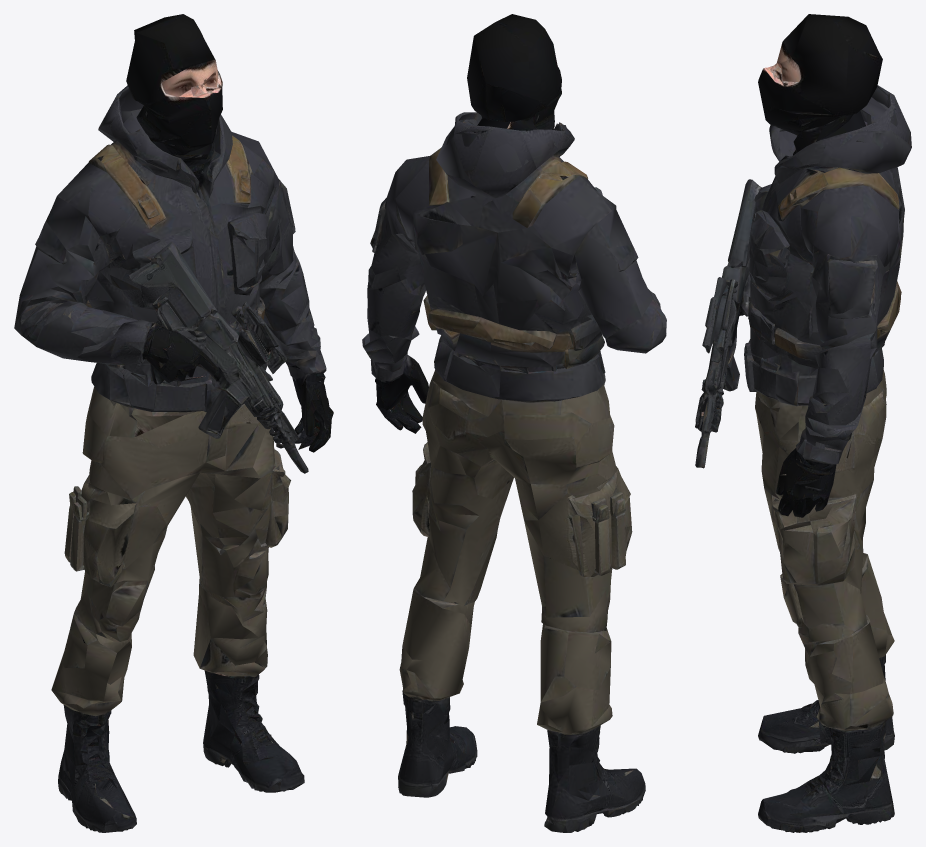
The model's file is operator.glb.
3 views of the same model, side by side, from view 1: azimuth 30°, elevation 25°; view 2: azimuth 150°, elevation 25°; view 3: azimuth 270°, elevation 25° (orthographic).
Size of the model in its own units: 0.766 by 1.89 by 0.4858.
1 material, 1 textured.
